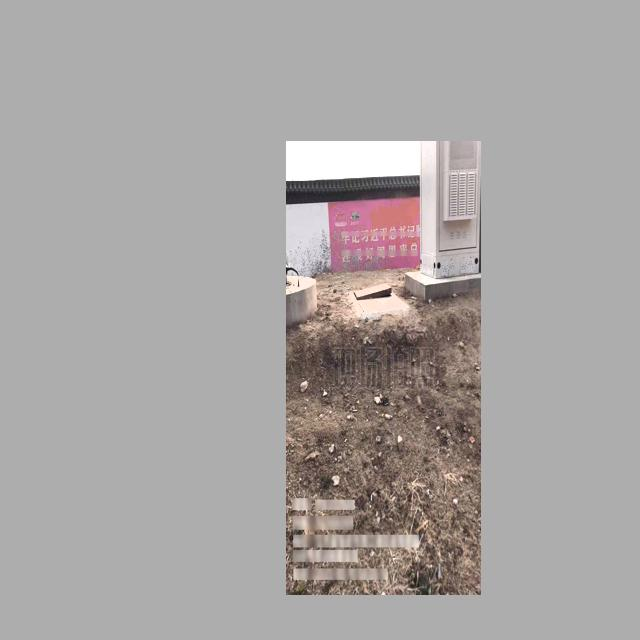uncovered: (351, 280, 410, 311)
